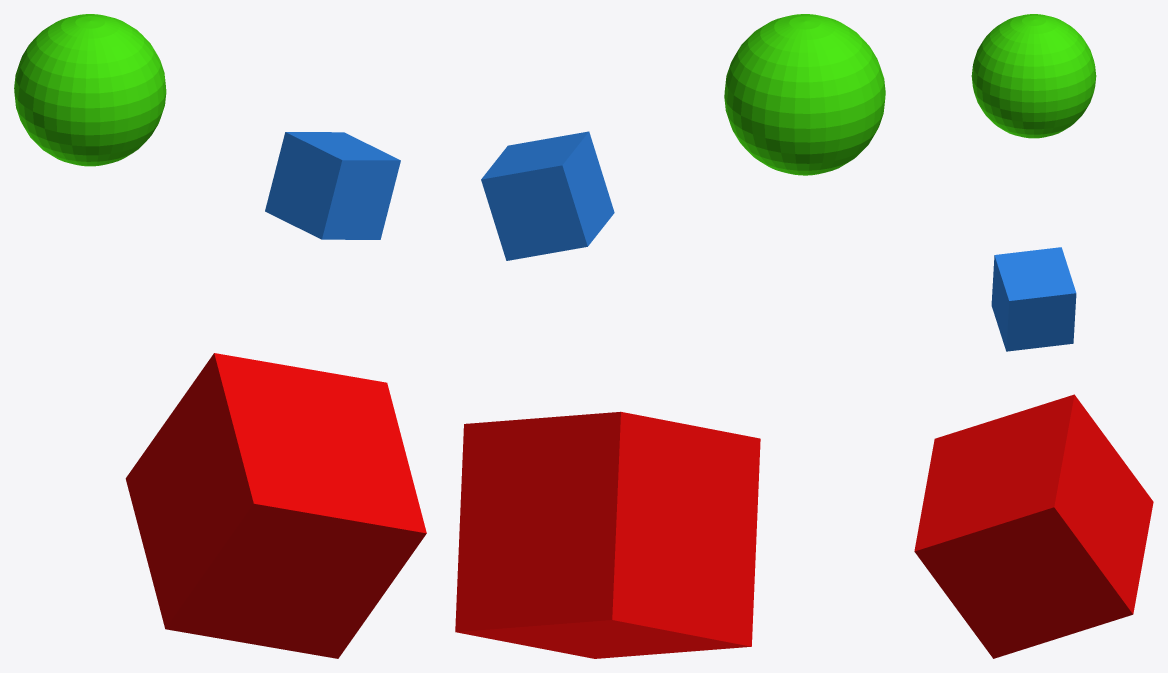
Rendered from sphere_and_cubes_colour.dae.
3 views of the same model, side by side, from view 1: azimuth 30°, elevation 25°; view 2: azimuth 150°, elevation 25°; view 3: azimuth 270°, elevation 25° (orthographic). The views are drawn at different scales.
Visible parts, largest first — view 1: Cube, Sphere.001, Cube.001; view 2: Cube, Sphere.001, Cube.001; view 3: Cube, Sphere.001, Cube.001.
Boxes of the visible parts, x1,y1,x2,y2 form: Cube: [125, 353, 426, 658]; Sphere.001: [14, 14, 166, 166]; Cube.001: [265, 132, 400, 239]; Cube: [455, 411, 760, 658]; Sphere.001: [724, 14, 885, 175]; Cube.001: [481, 131, 614, 260]; Cube: [914, 394, 1153, 658]; Sphere.001: [971, 14, 1096, 138]; Cube.001: [991, 247, 1076, 351].
Bounding box in the file's own units: 0.8521 × 0.5761 × 1.46.
